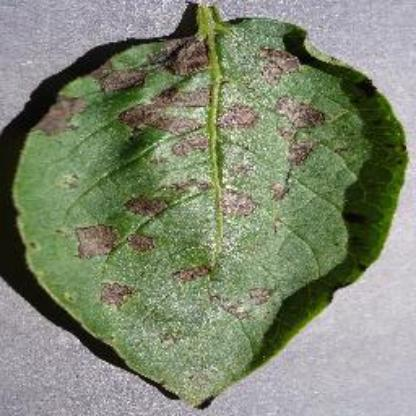Early-Blight: (11, 6, 413, 406)
